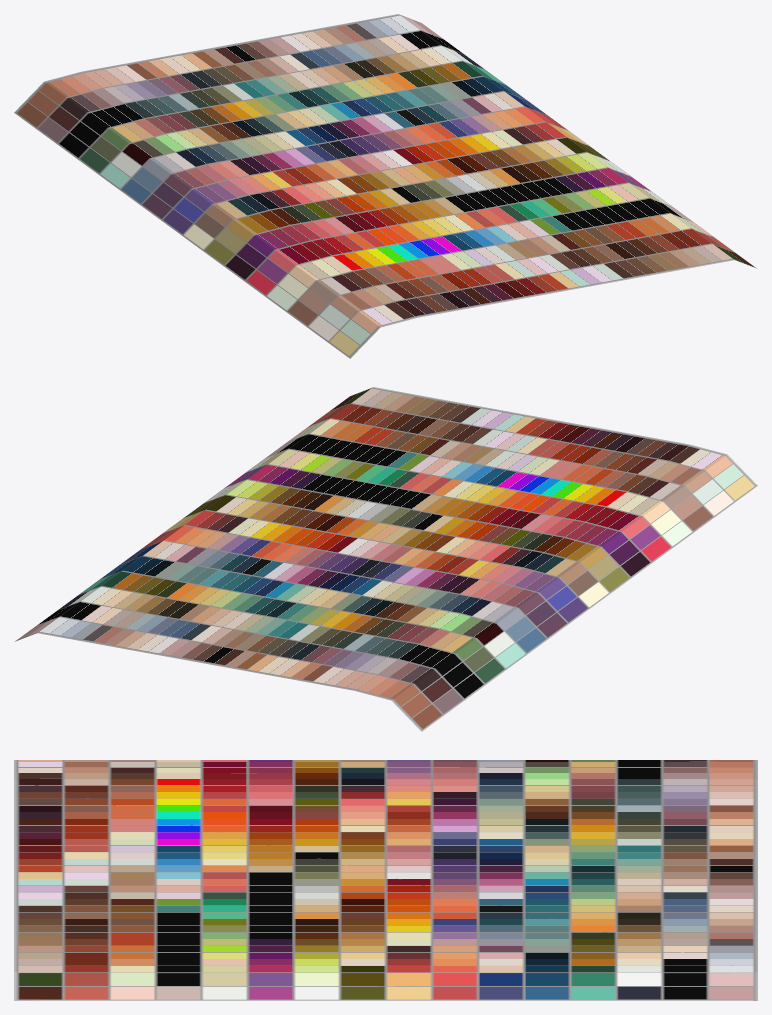
Rendered from Notebook_Paper.fbx.
3 renders of one model, top to bottom at view 1: azimuth 30°, elevation 25°; view 2: azimuth 150°, elevation 25°; view 3: azimuth 270°, elevation 25°, orthographic. The views are drawn at different scales.
Visible parts, largest first — view 1: NoteBook_Card; view 2: NoteBook_Card; view 3: NoteBook_Card.
Boxes of the visible parts, x1=… form: NoteBook_Card: x1=14, y1=14, x2=756, y2=358; NoteBook_Card: x1=15, y1=387, x2=757, y2=731; NoteBook_Card: x1=14, y1=760, x2=757, y2=1000.
Size of the model in its own units: 18.55 by 1.49 by 26.51.
1 material, 1 textured.
